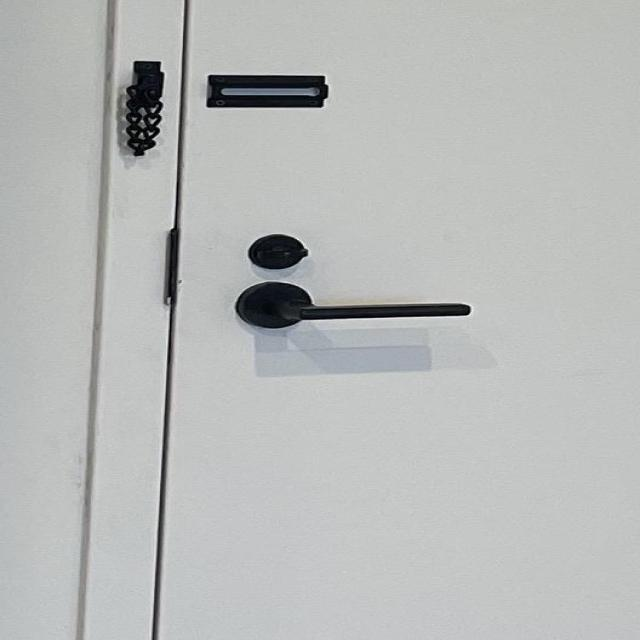door_handle: (217, 277, 485, 340)
